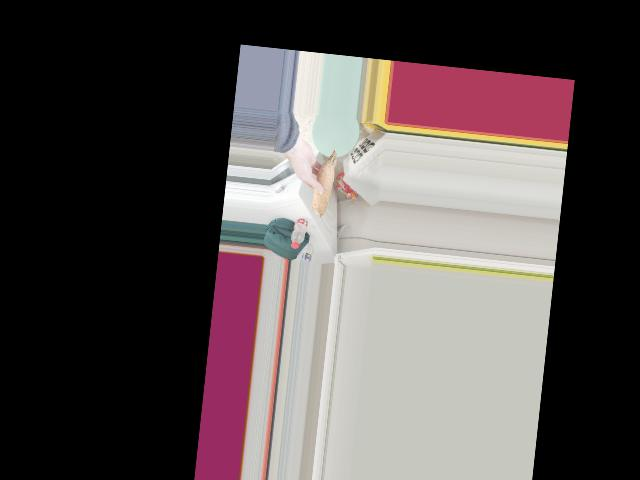sweet_potato: (313, 143, 339, 220)
